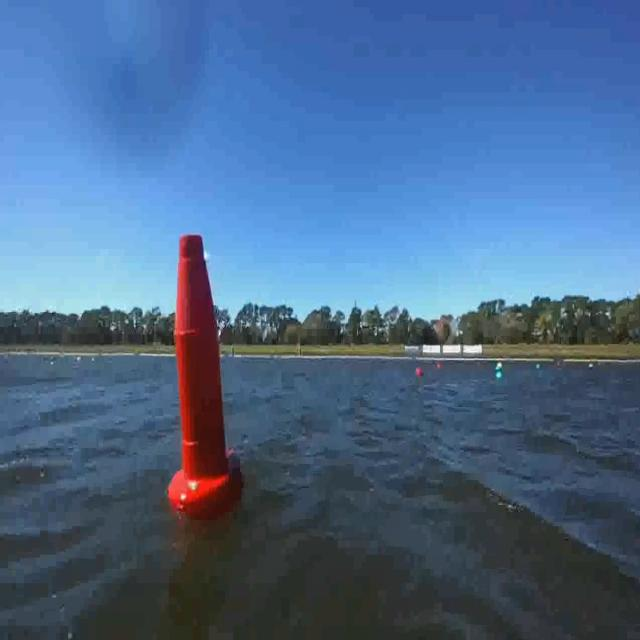green-buoy: (492, 365, 505, 384)
red-buoy: (416, 366, 424, 376)
red-column-buoy: (172, 226, 244, 516)
